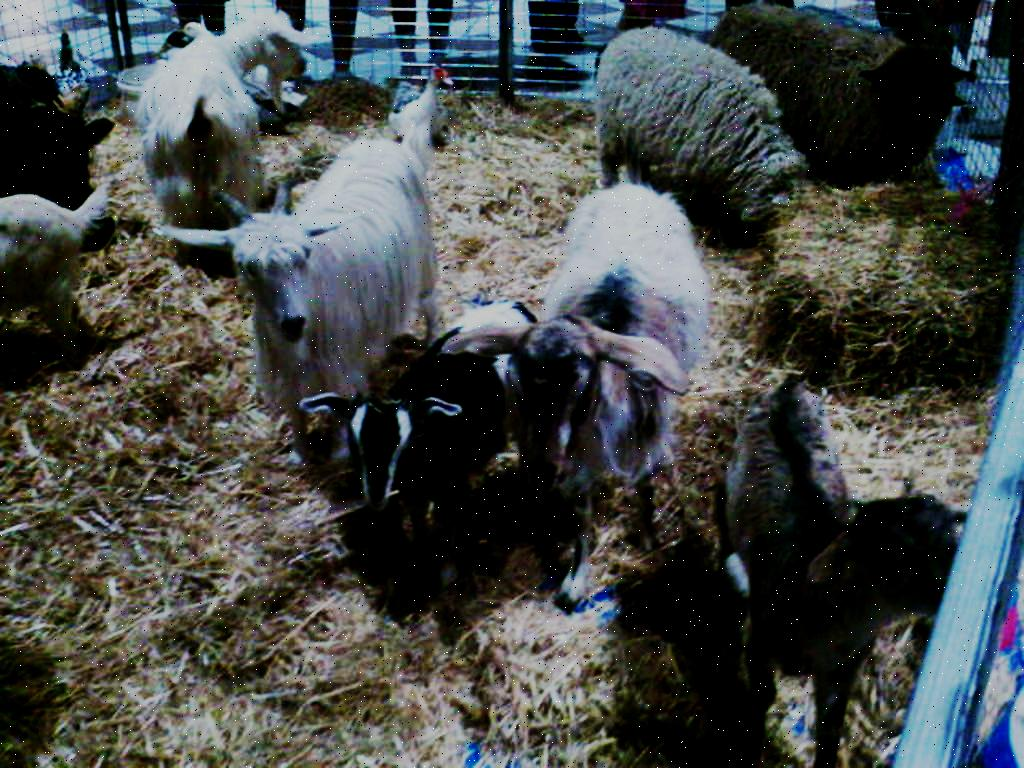Sheep: (704, 0, 971, 184), (598, 26, 816, 244)
